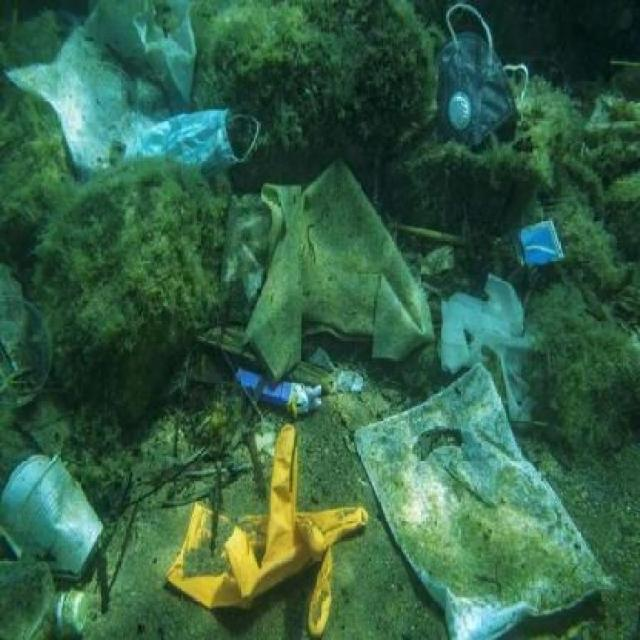Mask: (419, 2, 526, 165), (122, 93, 268, 184)
